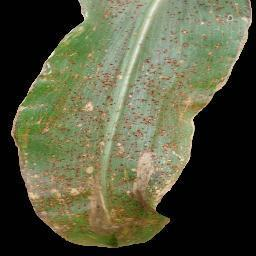Corn_Common_Rust: (10, 70, 203, 180), (41, 0, 203, 70), (23, 180, 179, 249), (205, 0, 254, 104)
